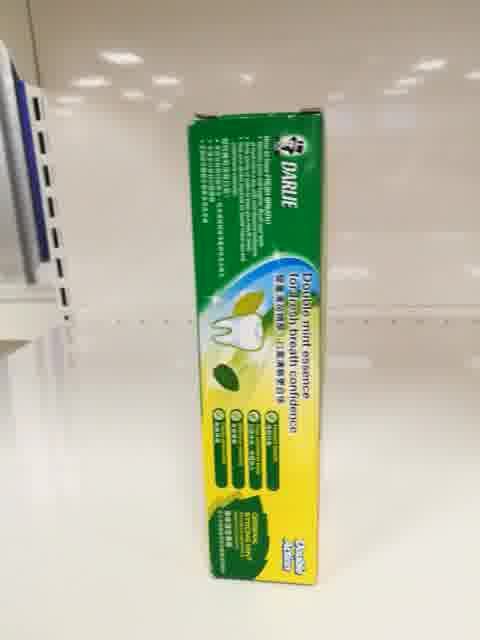toothpaste: (186, 108, 326, 588)
